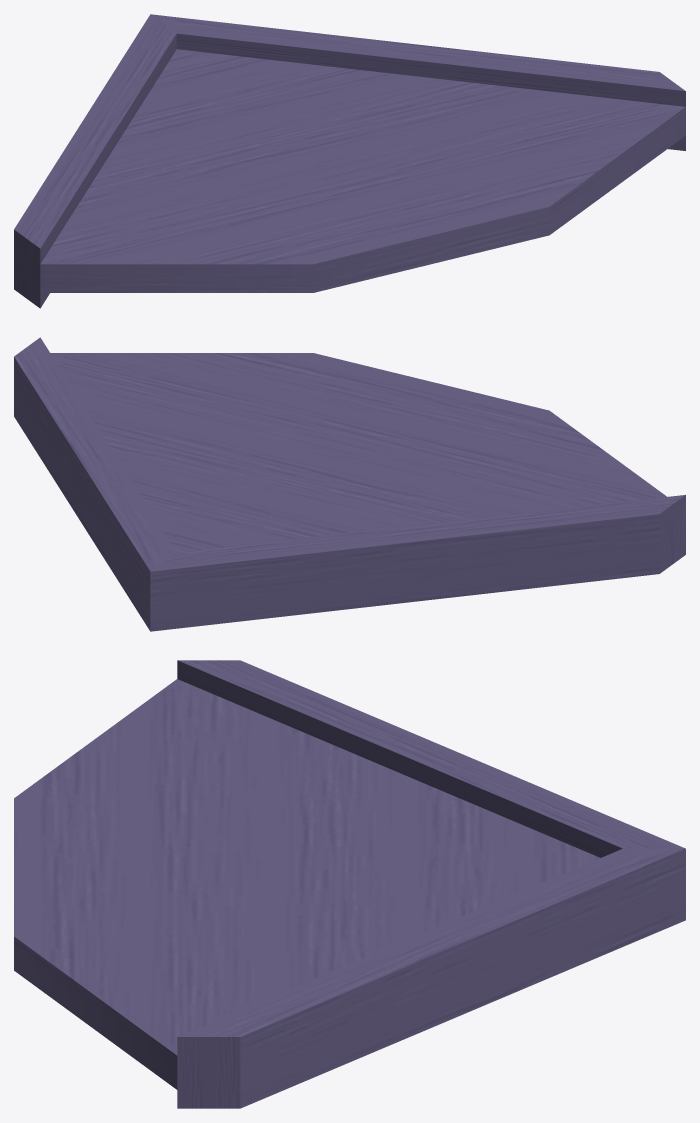
The model's file is Corner_Shelving_B_08.FBX.
3 views of the same model, one above another, from view 1: azimuth 30°, elevation 25°; view 2: azimuth 150°, elevation 25°; view 3: azimuth 270°, elevation 25° (orthographic). The views are drawn at different scales.
Visible parts, largest first — view 1: Corner_Shelving_B; view 2: Corner_Shelving_B; view 3: Corner_Shelving_B.
Part boxes in pixels (x1,y1,x2,y2): Corner_Shelving_B: [14, 14, 685, 308]; Corner_Shelving_B: [14, 337, 685, 631]; Corner_Shelving_B: [14, 660, 685, 1108].
Bounding box in the file's own units: 141 × 12.55 × 107.
